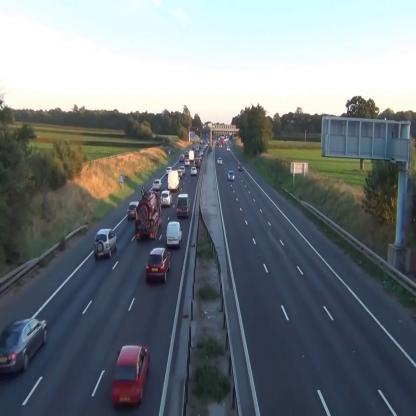car: (0, 318, 47, 374), (112, 344, 150, 408), (146, 247, 170, 282), (94, 229, 118, 259), (161, 190, 172, 208), (127, 203, 139, 219), (152, 180, 162, 190), (228, 170, 235, 180), (191, 167, 196, 174), (238, 163, 243, 170), (218, 158, 223, 164)
lorry: (136, 191, 162, 239), (166, 222, 182, 249), (177, 193, 191, 218), (167, 170, 179, 192)
